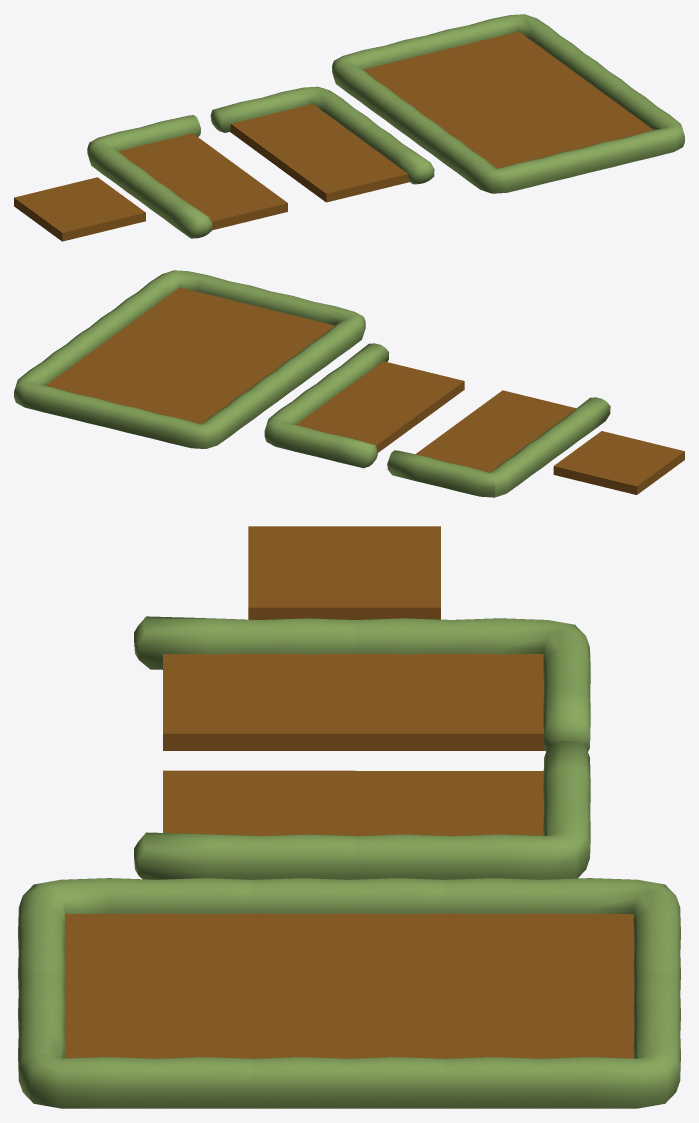
File: sawah.fbx
3 views of the same model, one above another, from view 1: azimuth 30°, elevation 25°; view 2: azimuth 150°, elevation 25°; view 3: azimuth 270°, elevation 25° (orthographic). The views are drawn at different scales.
Parts seen in each view (by area): view 1: sawah kanan jalan, sawah kiri bawah, sawah kiri jalan, sawah kanan bawah, sawah ujung kanan, sawah kiri atas, sawah kanan atas, sawah ujung kiri, sawah kiri tengah, sawah kanan tengah, sawah tengah; view 2: sawah kanan jalan, sawah kiri jalan, sawah kiri atas, sawah kanan atas, sawah kiri bawah, sawah kanan bawah, sawah ujung kanan, sawah ujung kiri, sawah kiri tengah, sawah kanan tengah, sawah tengah; view 3: sawah kiri jalan, sawah kanan atas, sawah kanan bawah, sawah ujung kiri, sawah kanan jalan, sawah kiri atas, sawah kiri bawah, sawah kanan tengah, sawah ujung kanan, sawah kiri tengah, sawah tengah.
Part boxes in pixels (x1,y1,x2,y2): sawah kanan jalan: (210, 86, 377, 166); sawah kiri bawah: (430, 121, 591, 193); sawah kiri jalan: (87, 115, 239, 200); sawah kanan bawah: (533, 87, 684, 172); sawah ujung kanan: (278, 124, 434, 202); sawah kiri atas: (332, 35, 483, 118); sawah kanan atas: (428, 14, 583, 85); sawah ujung kiri: (138, 168, 287, 238); sawah kiri tengah: (382, 86, 531, 154); sawah kanan tengah: (485, 52, 632, 121); sawah tengah: (14, 177, 145, 241); sawah kanan jalan: (264, 382, 416, 468); sawah kiri jalan: (387, 425, 556, 497); sawah kiri atas: (107, 377, 267, 448); sawah kanan atas: (14, 343, 165, 427); sawah kiri bawah: (214, 291, 365, 374); sawah kanan bawah: (114, 270, 269, 341); sawah ujung kanan: (317, 343, 464, 424); sawah ujung kiri: (455, 390, 610, 457); sawah kiri tengah: (166, 342, 315, 409); sawah kanan tengah: (66, 308, 213, 376); sawah tengah: (553, 431, 684, 494); sawah kiri jalan: (355, 618, 590, 751); sawah kanan atas: (445, 972, 680, 1108); sawah kanan bawah: (18, 972, 253, 1108); sawah ujung kiri: (134, 616, 355, 750); sawah kanan jalan: (355, 741, 590, 879); sawah kiri atas: (445, 878, 680, 993); sawah kiri bawah: (18, 878, 253, 993); sawah kanan tengah: (253, 993, 445, 1108); sawah ujung kanan: (134, 770, 355, 879); sawah kiri tengah: (253, 878, 445, 993); sawah tengah: (248, 526, 440, 619).
Size of the model in its own units: 1372 by 46.19 by 689.
